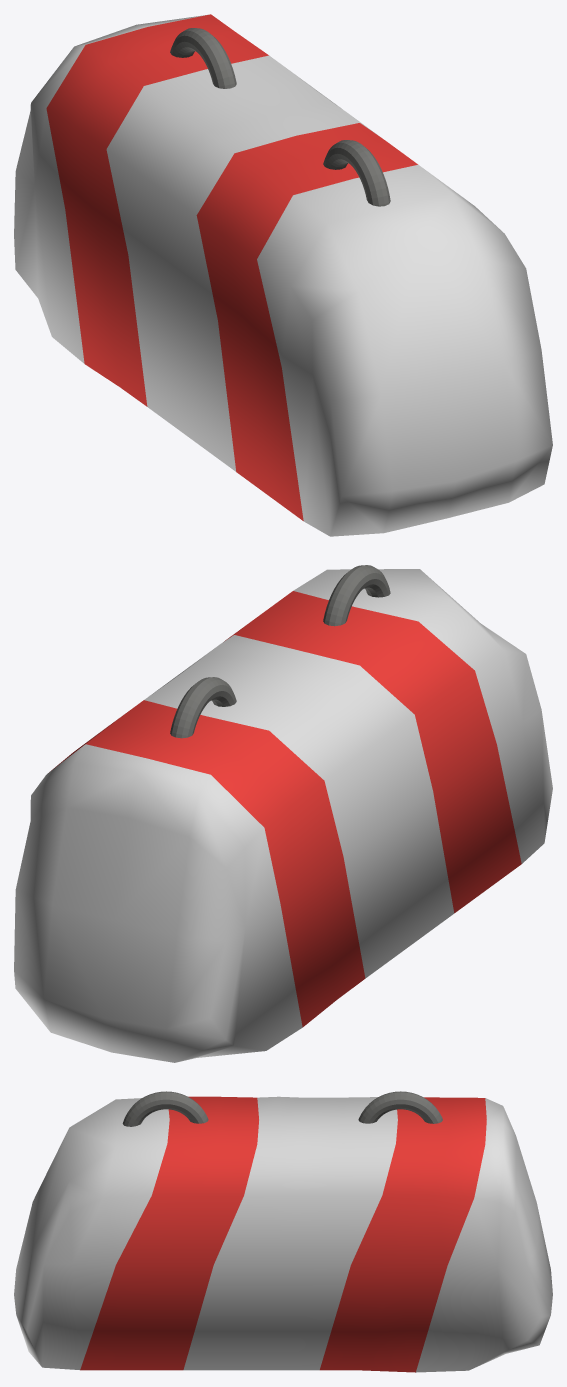
File: stop_block.fbx
The picture shows the model from 3 angles, top to bottom: view 1: azimuth 30°, elevation 25°; view 2: azimuth 150°, elevation 25°; view 3: azimuth 270°, elevation 25°; orthographic projection. The views are drawn at different scales.
Visible parts, largest first — view 1: Cube, Torus, Torus.001; view 2: Cube, Torus, Torus.001; view 3: Cube, Torus, Torus.001.
Part boxes in pixels (x1=…): Cube: x1=14, y1=14, x2=552, y2=536; Torus: x1=323, y1=140, x2=390, y2=206; Torus.001: x1=170, y1=28, x2=236, y2=88; Cube: x1=14, y1=569, x2=552, y2=1062; Torus: x1=323, y1=565, x2=390, y2=626; Torus.001: x1=170, y1=677, x2=236, y2=738; Cube: x1=14, y1=1096, x2=552, y2=1372; Torus: x1=122, y1=1091, x2=208, y2=1126; Torus.001: x1=358, y1=1091, x2=442, y2=1123.
Bounding box in the file's own units: 167 × 228 × 466.
